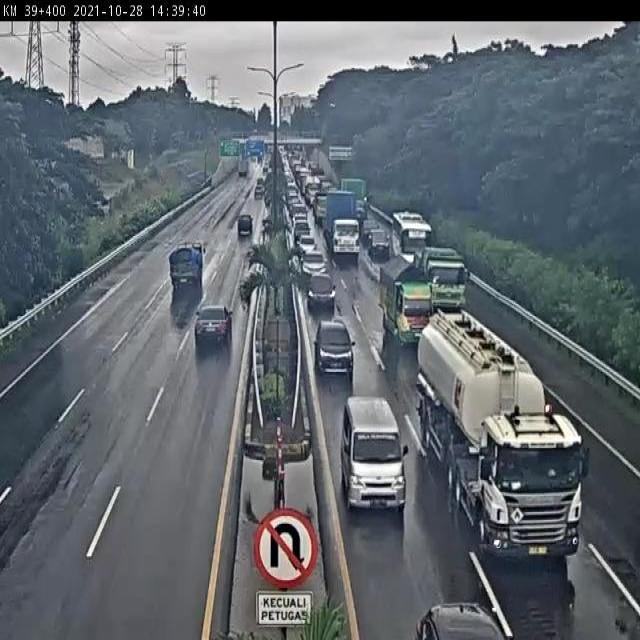big bus: (389, 212, 429, 265)
big truck: (413, 312, 582, 563), (325, 186, 361, 258)
car: (342, 398, 405, 510), (314, 322, 359, 378), (195, 306, 233, 346), (305, 269, 336, 304), (301, 248, 326, 277), (367, 228, 390, 257), (234, 213, 255, 240)
mid truck: (419, 246, 472, 306)
small truck: (168, 237, 206, 287)
truck-m-: (380, 261, 433, 343)
